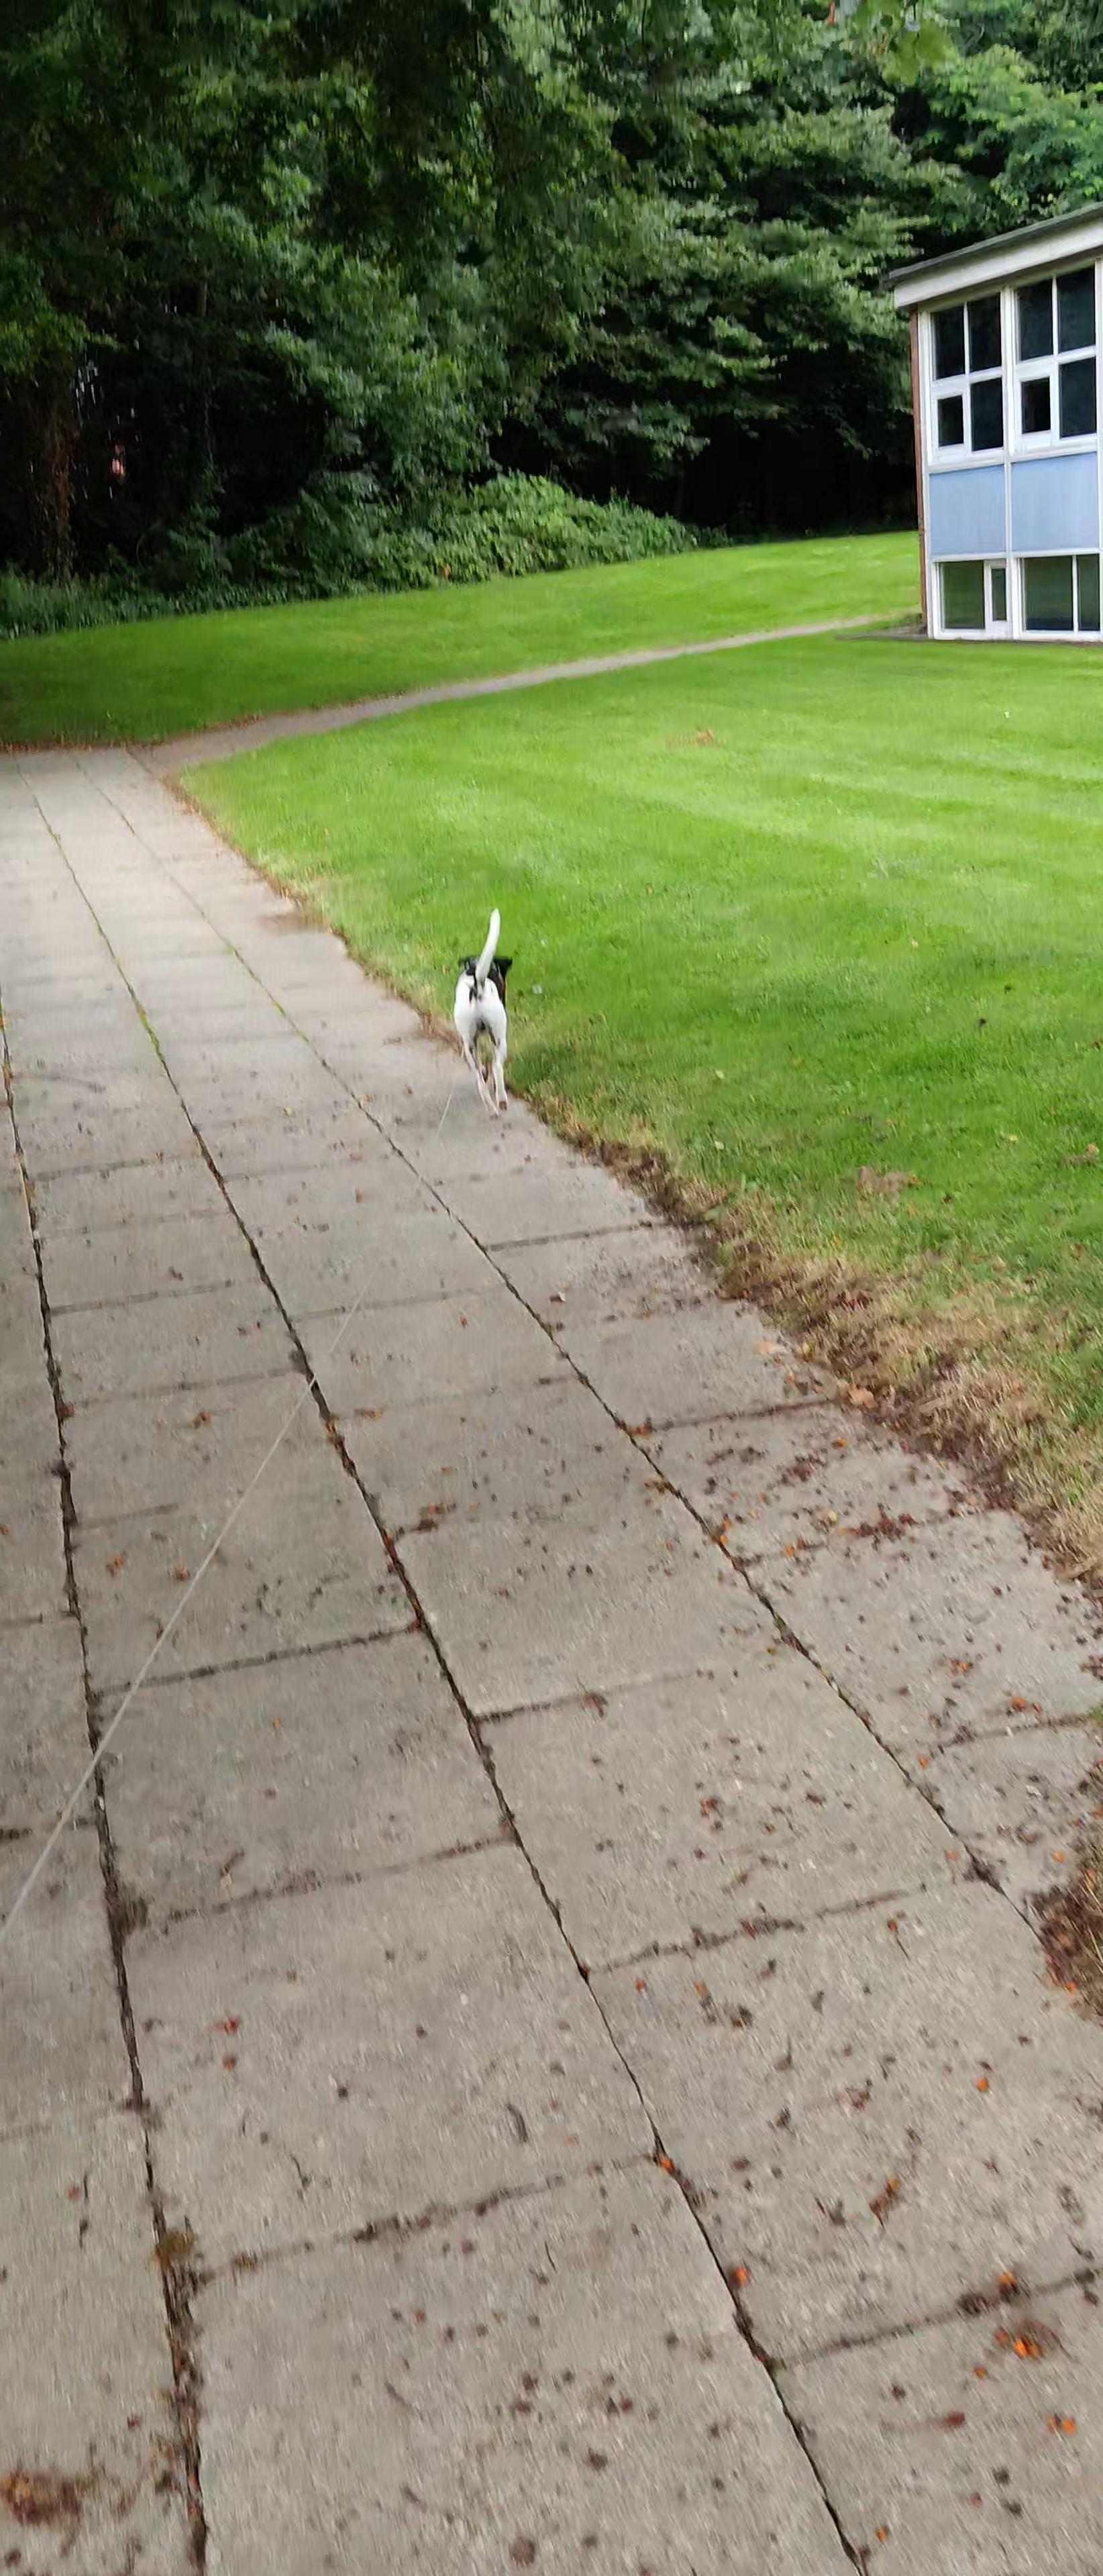Dog: (441, 900, 526, 1124)
